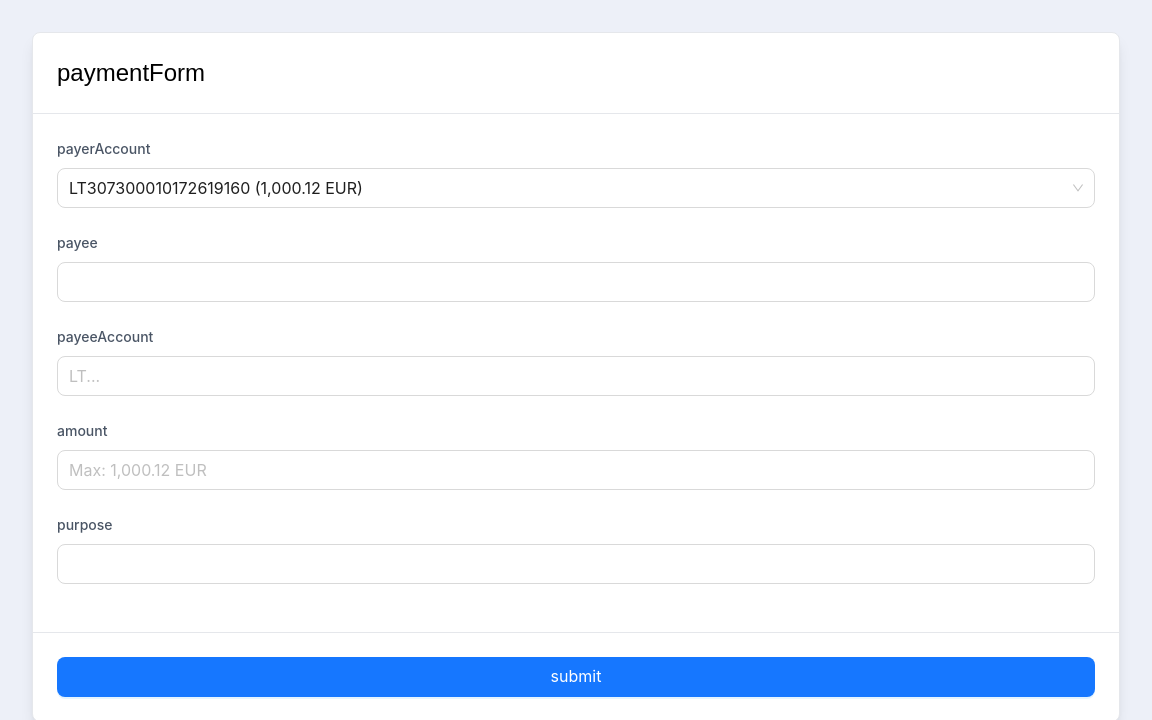
PaymentForm › validates required fields
This screenshot has width=1152, height=720.
Click the button "submit" at (576, 677), box [57,657,1095,697]
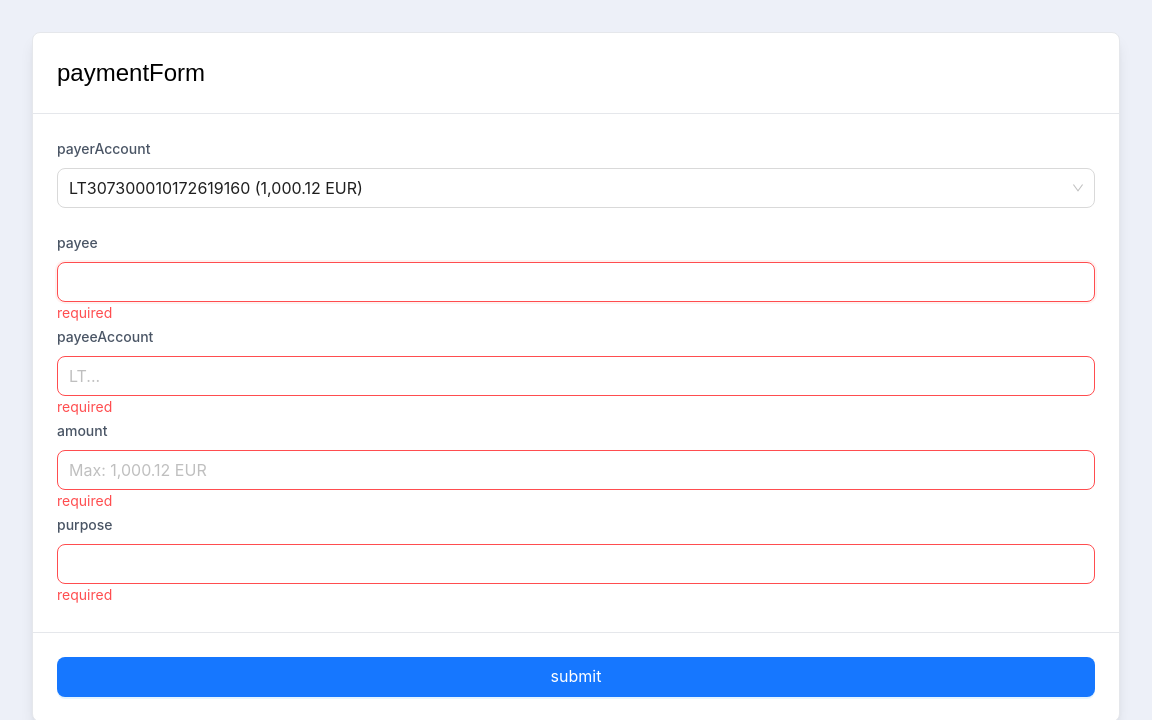
Result: the text "required" is shown 4 times at [57,304,112,321]; [57,398,112,415]; [57,492,112,509]; [57,586,112,603]
